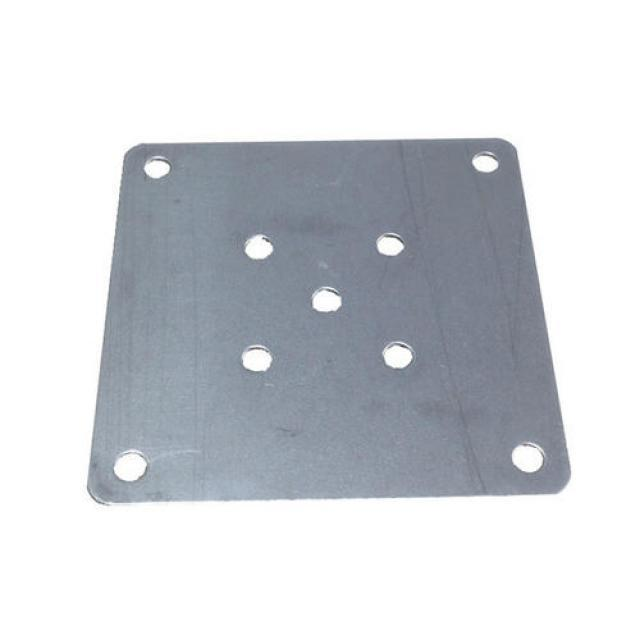recyclable: (86, 140, 570, 504)
